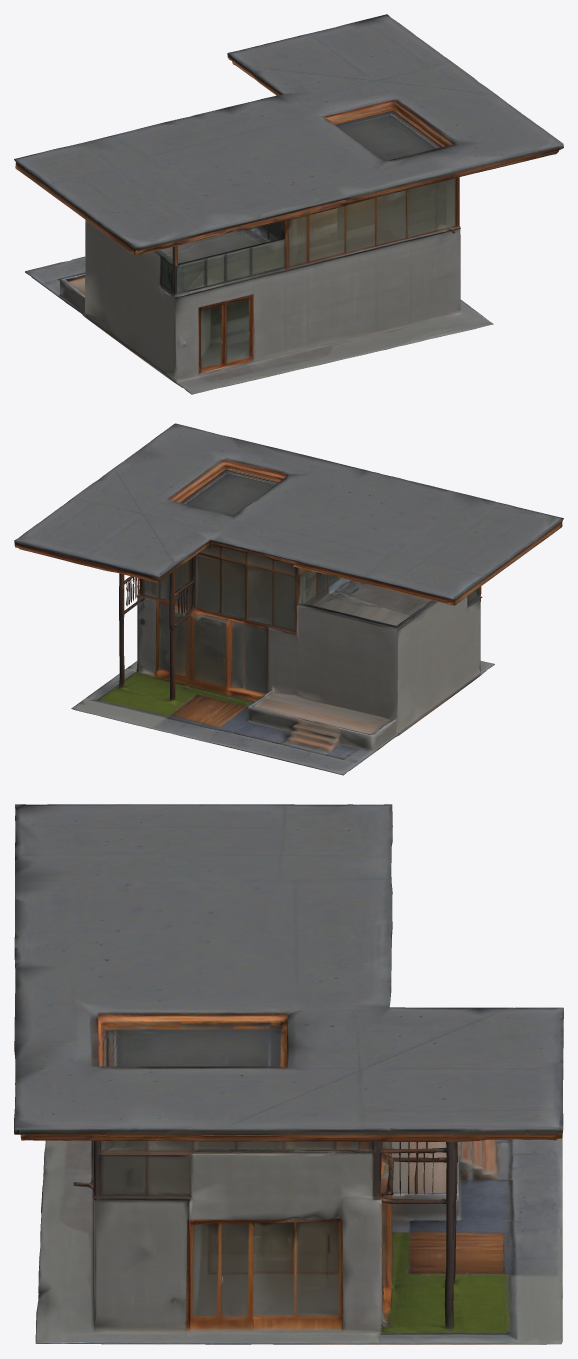
The model's file is Modern_Serenity_0714171027_texture.glb.
3 renders of one model, top to bottom at view 1: azimuth 30°, elevation 25°; view 2: azimuth 150°, elevation 25°; view 3: azimuth 270°, elevation 25°, orthographic. The views are drawn at different scales.
Size of the model in its own units: 2 by 0.7622 by 1.43.
1 material, 1 textured.
